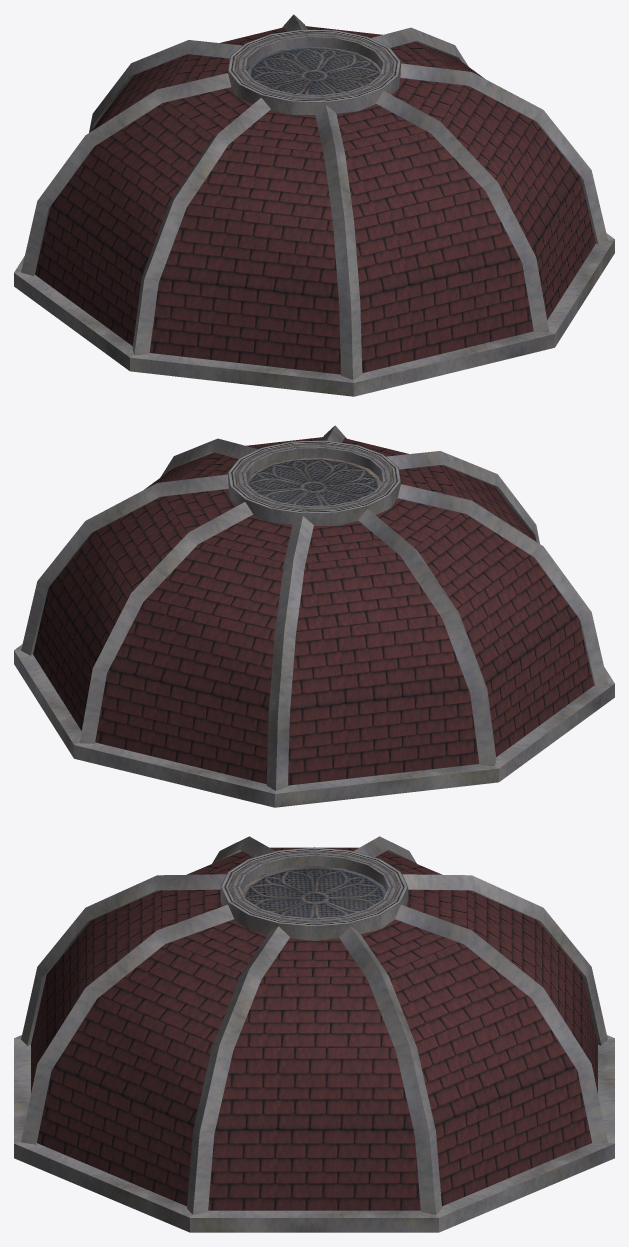
The model's file is sanctum_roof_01.glb.
The picture shows the model from 3 angles, top to bottom: view 1: azimuth 30°, elevation 25°; view 2: azimuth 150°, elevation 25°; view 3: azimuth 270°, elevation 25°; orthographic projection. The views are drawn at different scales.
Parts seen in each view (by area): view 1: sanctum_roof_01; view 2: sanctum_roof_01; view 3: sanctum_roof_01.
Boxes of the visible parts, x1,y1,x2,y2 form: sanctum_roof_01: (14,14,614,396); sanctum_roof_01: (14,425,614,807); sanctum_roof_01: (14,836,614,1232).
Bounding box in the file's own units: 44.51 × 17.87 × 44.51.
2 materials, 2 textured.
